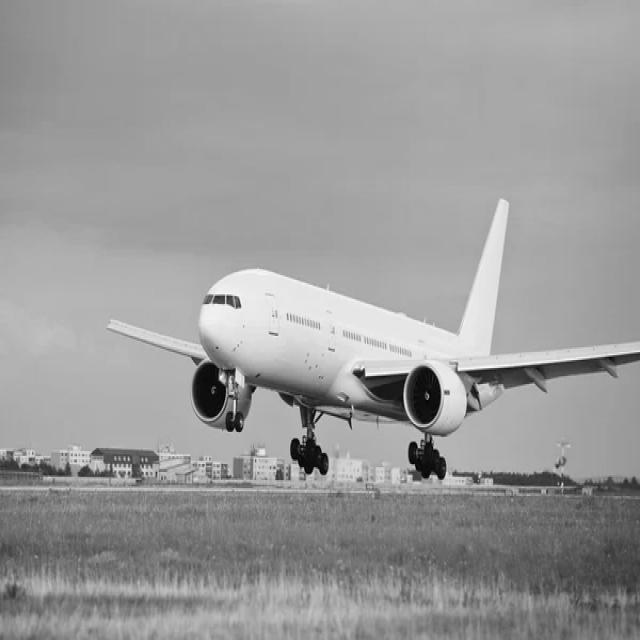Aircraft: (107, 191, 639, 477)
